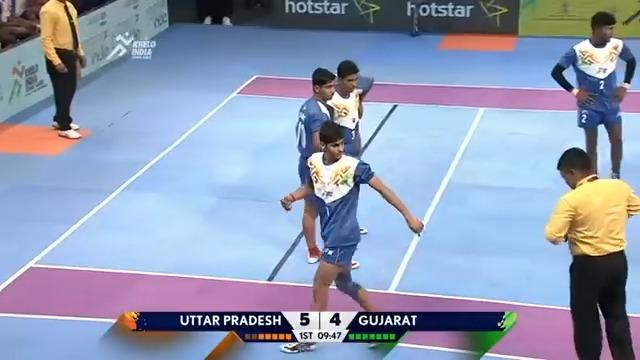Player: (278, 120, 424, 353), (550, 10, 636, 179), (325, 58, 374, 268), (294, 66, 337, 264), (38, 0, 87, 139)
referee: (543, 146, 639, 359)
